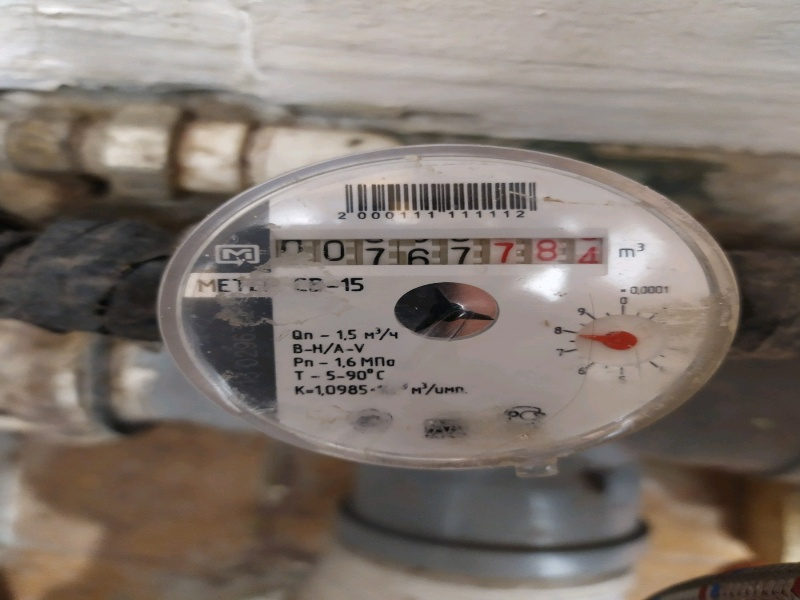meter: (261, 229, 609, 276)
